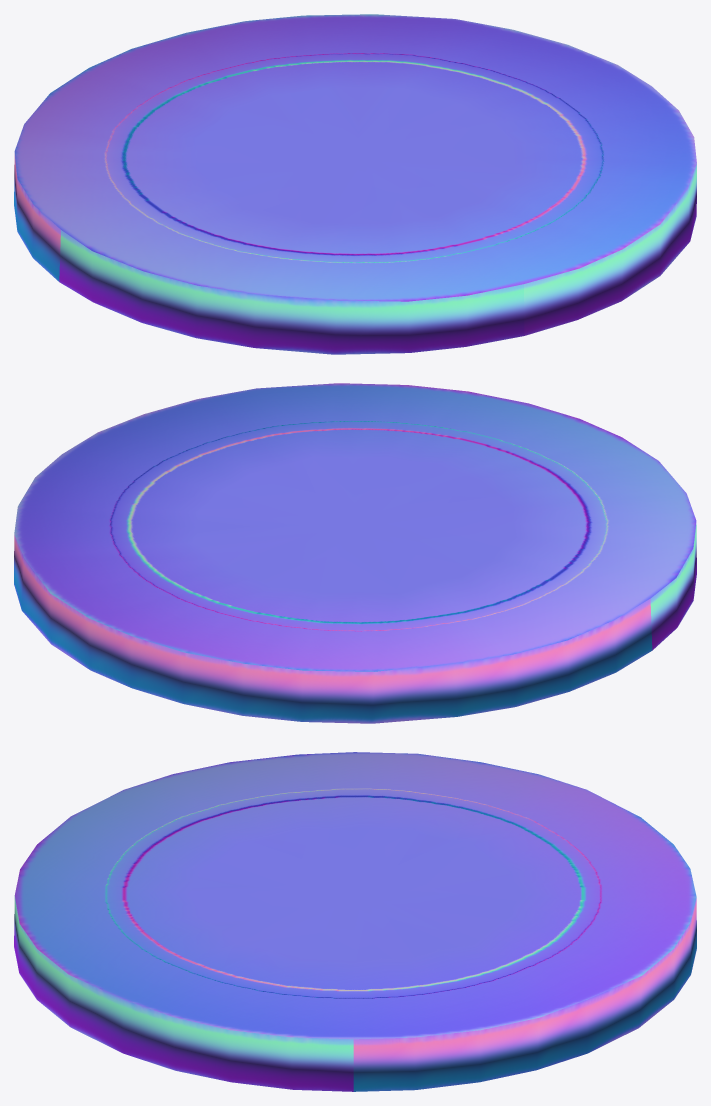
Rendered from Platform_Magnetic.fbx.
3 views of the same model, one above another, from view 1: azimuth 30°, elevation 25°; view 2: azimuth 150°, elevation 25°; view 3: azimuth 270°, elevation 25° (orthographic).
Visible parts, largest first — view 1: RetopoGroup1; view 2: RetopoGroup1; view 3: RetopoGroup1.
Part boxes in pixels (box(x1,y1,x2,y2)): RetopoGroup1: box(14, 14, 696, 354); RetopoGroup1: box(14, 383, 696, 723); RetopoGroup1: box(14, 752, 696, 1091).
Size of the model in its own units: 199 by 17.92 by 199.
